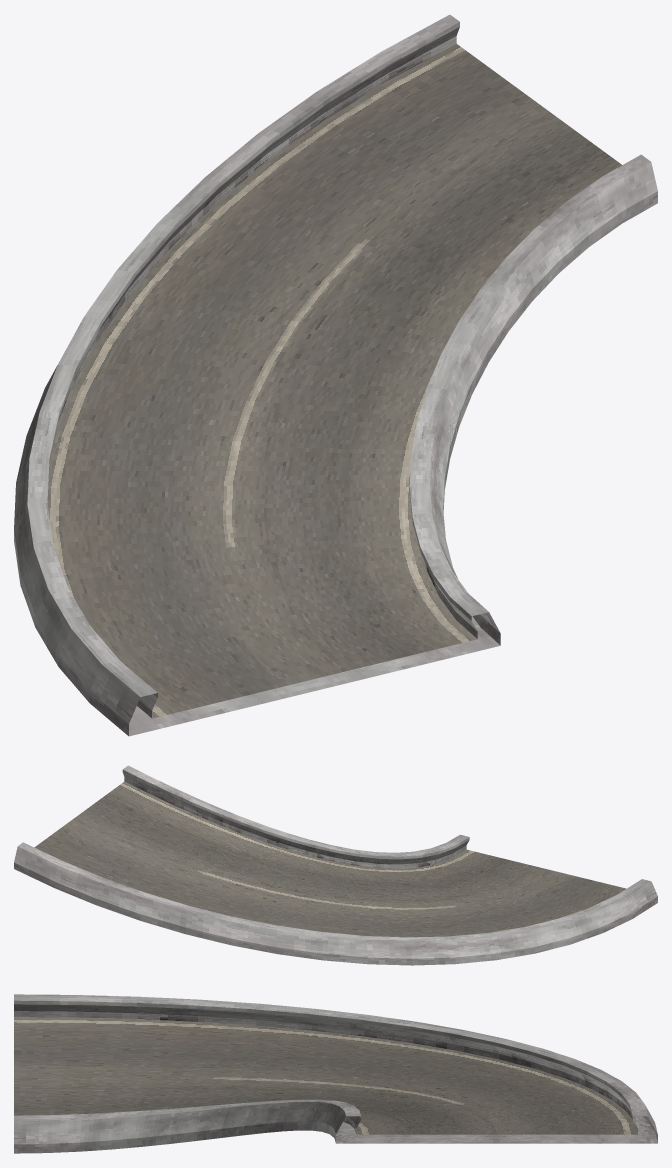
File: turn-right2x2.glb
3 views of the same model, one above another, from view 1: azimuth 30°, elevation 25°; view 2: azimuth 150°, elevation 25°; view 3: azimuth 270°, elevation 25° (orthographic). The views are drawn at different scales.
Parts seen in each view (by area): view 1: road-Turn-Flat-BiSlopeUp-Up2-Right-Size2; view 2: road-Turn-Flat-BiSlopeUp-Up2-Right-Size2; view 3: road-Turn-Flat-BiSlopeUp-Up2-Right-Size2.
Part boxes in pixels (x1=…): road-Turn-Flat-BiSlopeUp-Up2-Right-Size2: x1=14, y1=14, x2=657, y2=736; road-Turn-Flat-BiSlopeUp-Up2-Right-Size2: x1=14, y1=765, x2=657, y2=965; road-Turn-Flat-BiSlopeUp-Up2-Right-Size2: x1=14, y1=994, x2=657, y2=1153.
Bounding box in the file's own units: 2 × 0.5938 × 2.
2 materials, 2 textured.
